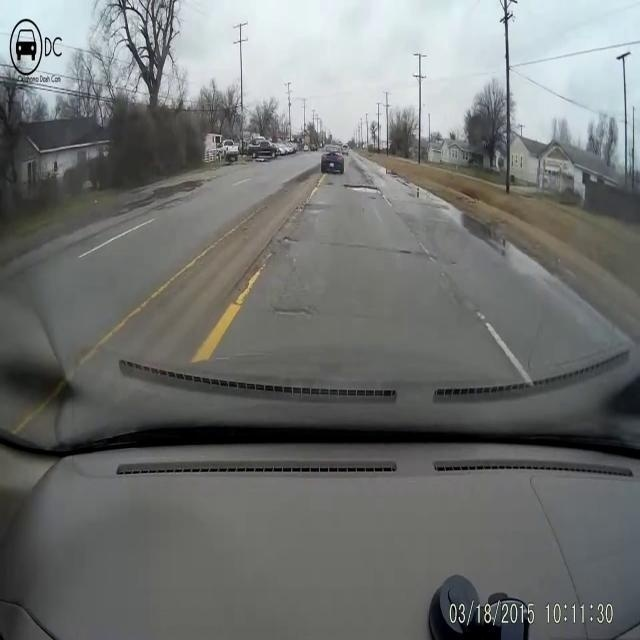pothole: (268, 292, 320, 338), (337, 178, 388, 205), (388, 233, 421, 272), (275, 227, 308, 257)
